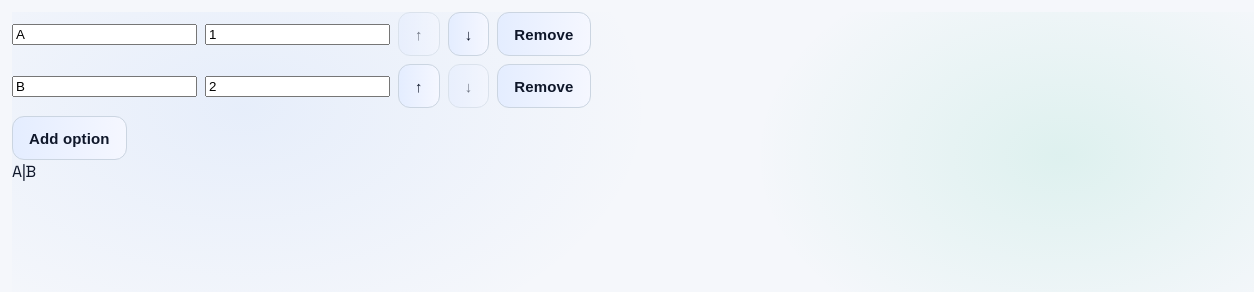
OptionsEditor › adds, moves, and removes options
Click the button "Add option". click: click(69, 138)
box: [12, 116, 127, 160]
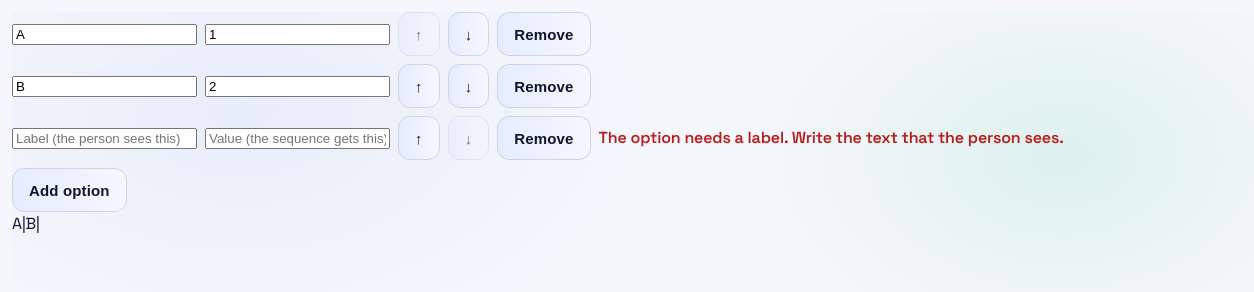
Check: the text with test id "labels" reads "A|B|", box [12, 213, 40, 234]
Click the button named "Move option 2 up". click: click(419, 86)
box: [398, 64, 440, 108]
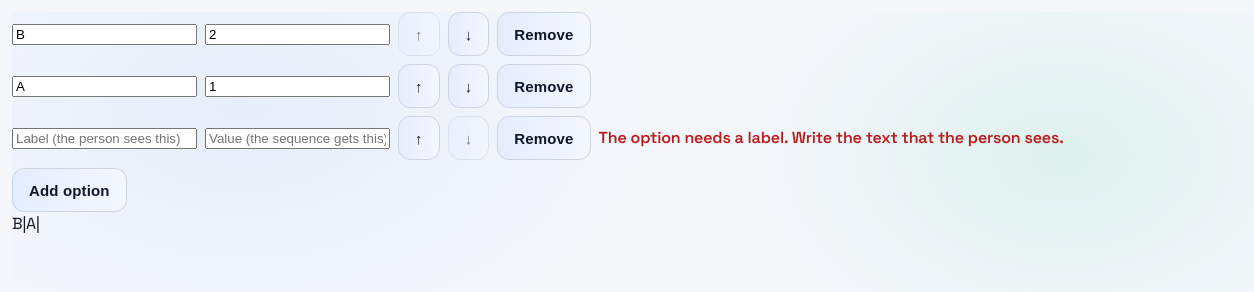
Check: the text with test id "labels" reads "B|A|", box [12, 213, 40, 234]
Click the button with aria-label "Remove option 1". click: click(544, 34)
box: [497, 12, 591, 56]
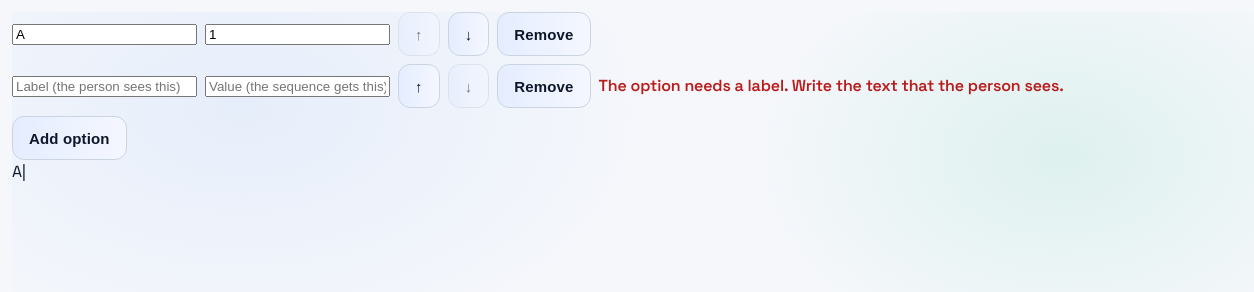
Check: the text with test id "labels" reads "A|", box [12, 161, 26, 182]
